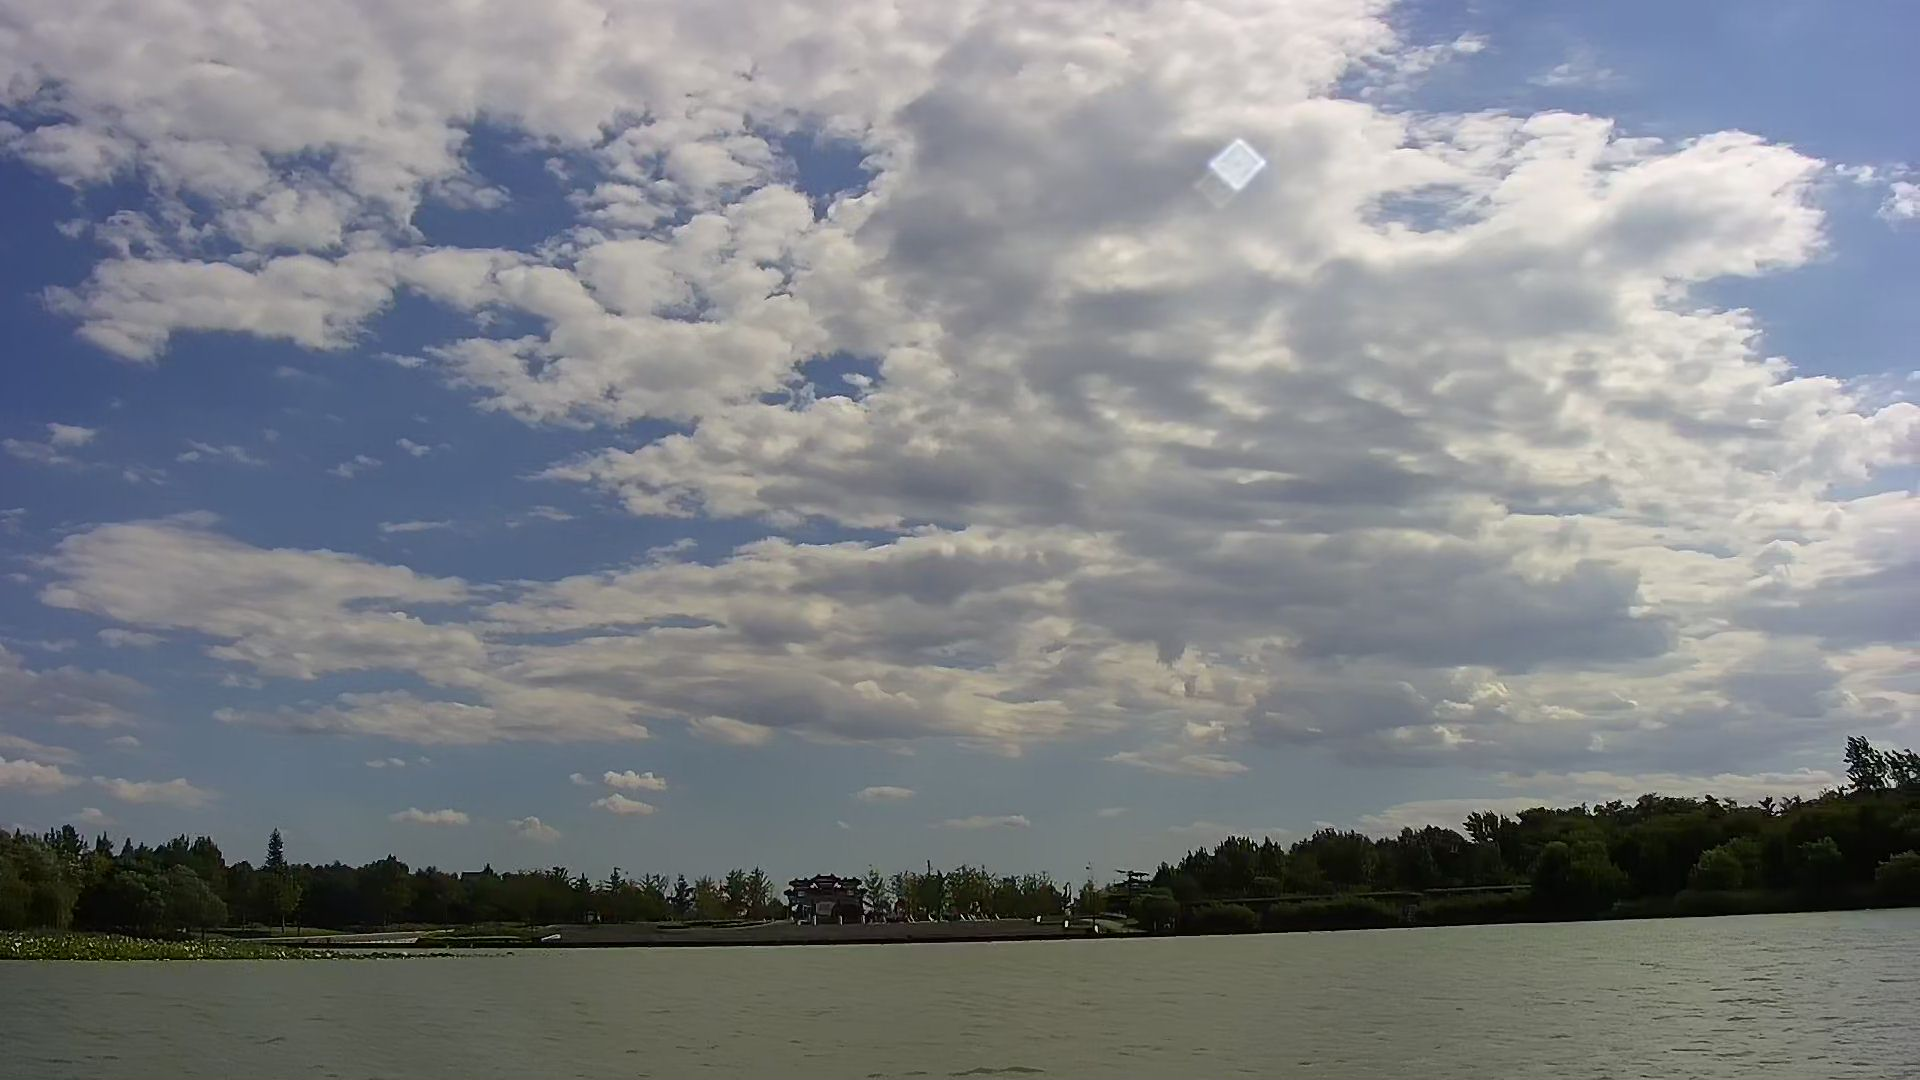harbor: (545, 907, 1141, 947)
